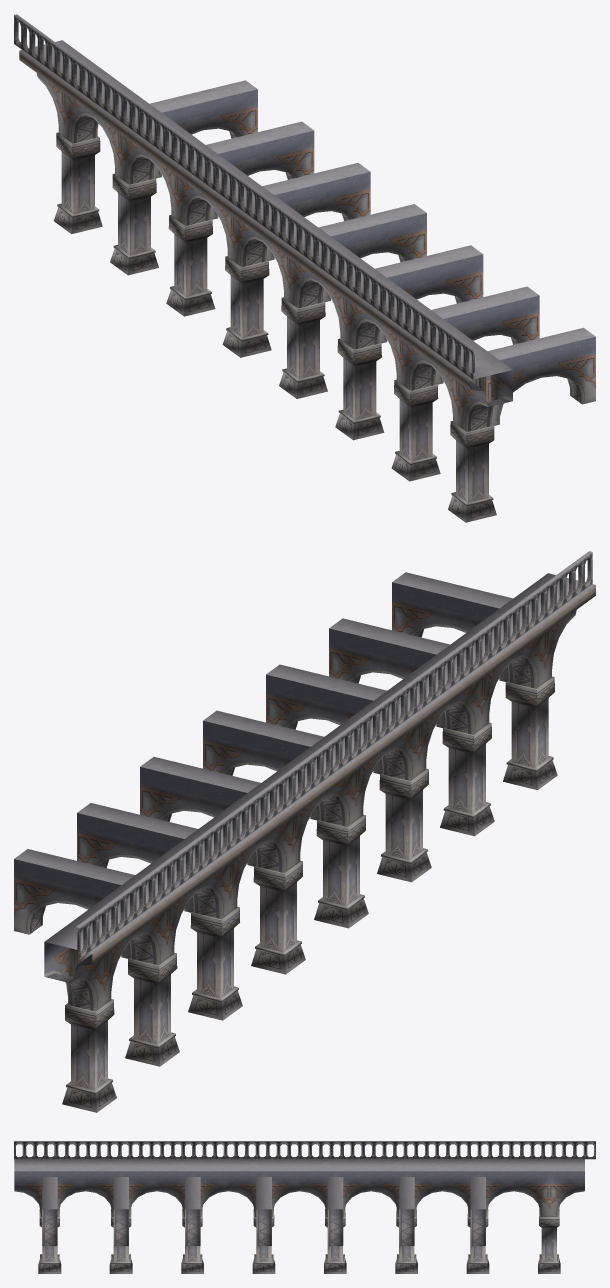
File: Recruit_Other_02.FBX
3 renders of one model, top to bottom at view 1: azimuth 30°, elevation 25°; view 2: azimuth 150°, elevation 25°; view 3: azimuth 270°, elevation 25°, orthographic. The views are drawn at different scales.
Parts seen in each view (by area): view 1: Recruit_Other_02; view 2: Recruit_Other_02; view 3: Recruit_Other_02.
Boxes of the visible parts, x1,y1,x2,y2 form: Recruit_Other_02: (14,14,595,522); Recruit_Other_02: (14,551,595,1112); Recruit_Other_02: (14,1141,595,1273).
Bounding box in the file's own units: 7.55 × 9.19 × 40.56.
